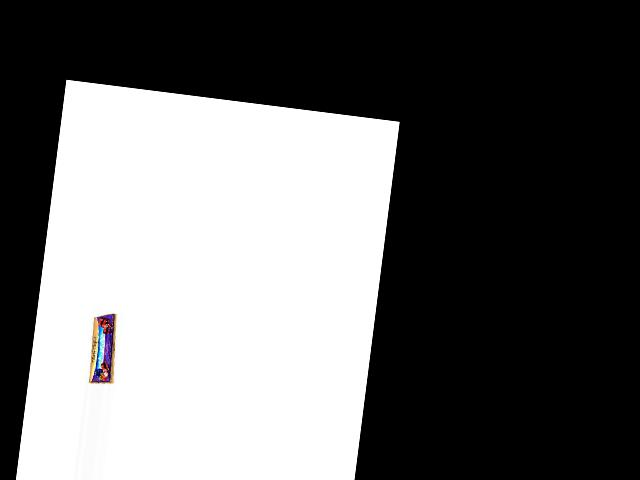chocolate: (88, 308, 122, 386)
